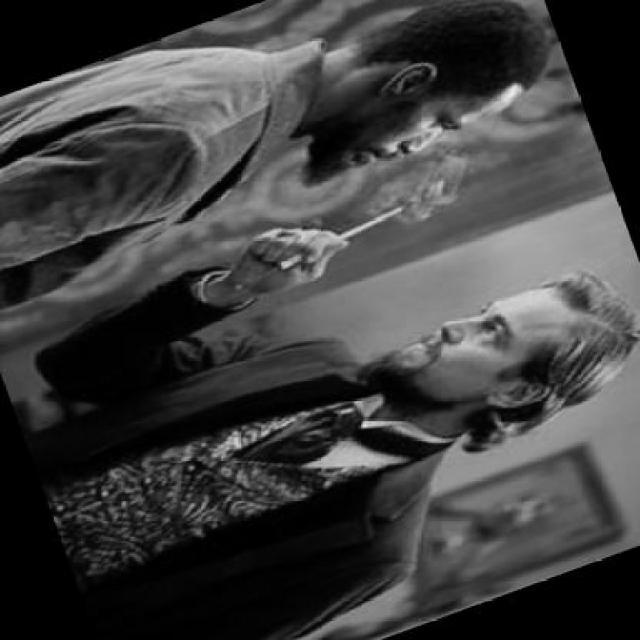smoke: (219, 259, 284, 298)
